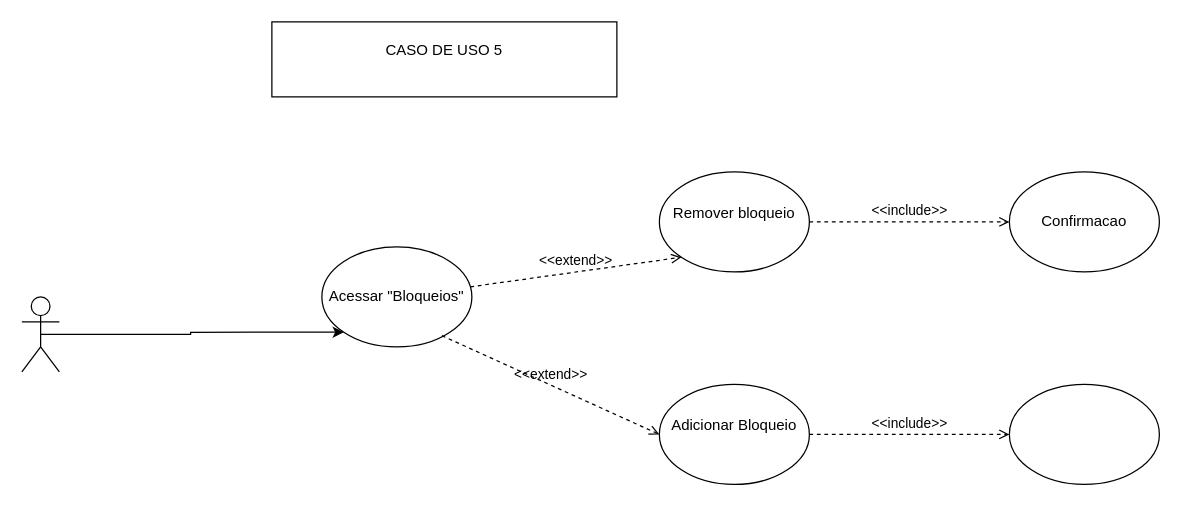
Image size: 1181x506. Some labels were removed from this diagram. The shapes that lost their labels are listed below. From the top down, each one's centre as x and y in pixels, then its label:
At point (40, 334): "ADM".
At point (1083, 433): "Escolher informações".
